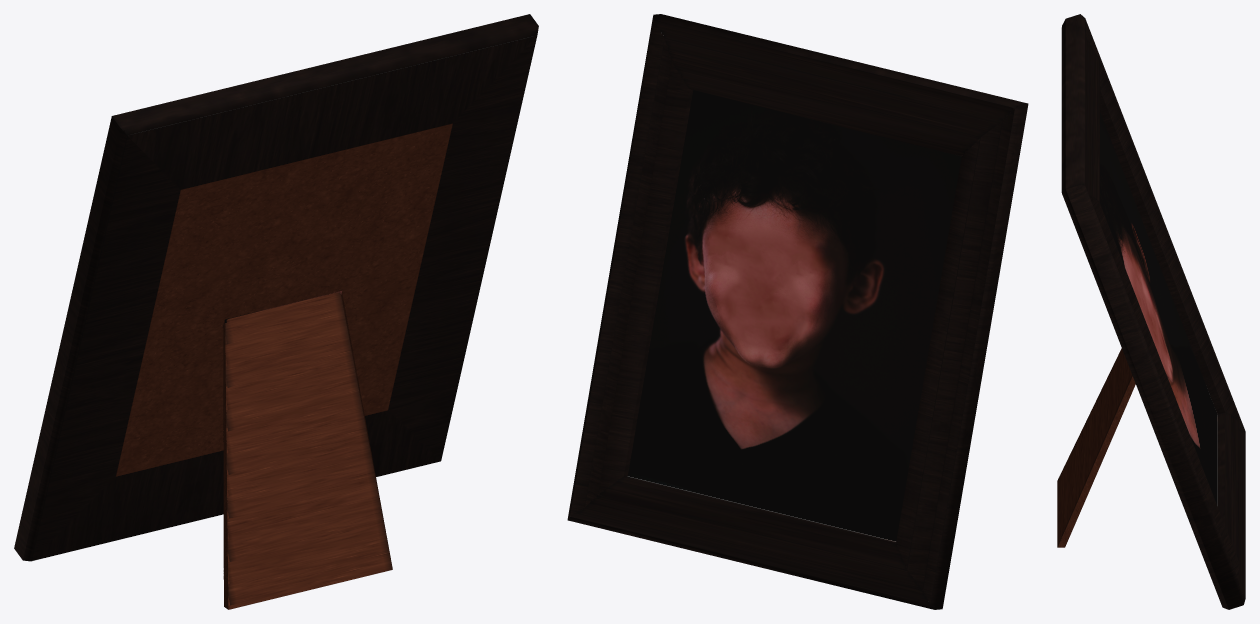
File: picture.fbx
3 views of the same model, side by side, from view 1: azimuth 30°, elevation 25°; view 2: azimuth 150°, elevation 25°; view 3: azimuth 270°, elevation 25° (orthographic). The views are drawn at different scales.
Parts seen in each view (by area): view 1: pCube1; view 2: pCube1; view 3: pCube1.
Part boxes in pixels (bbox=[...]): pCube1: bbox=[14, 14, 538, 609]; pCube1: bbox=[567, 14, 1028, 609]; pCube1: bbox=[1057, 14, 1245, 609].
Bounding box in the file's own units: 19.77 × 9.23 × 23.01.
Materials: 1 (1 with a texture image).
